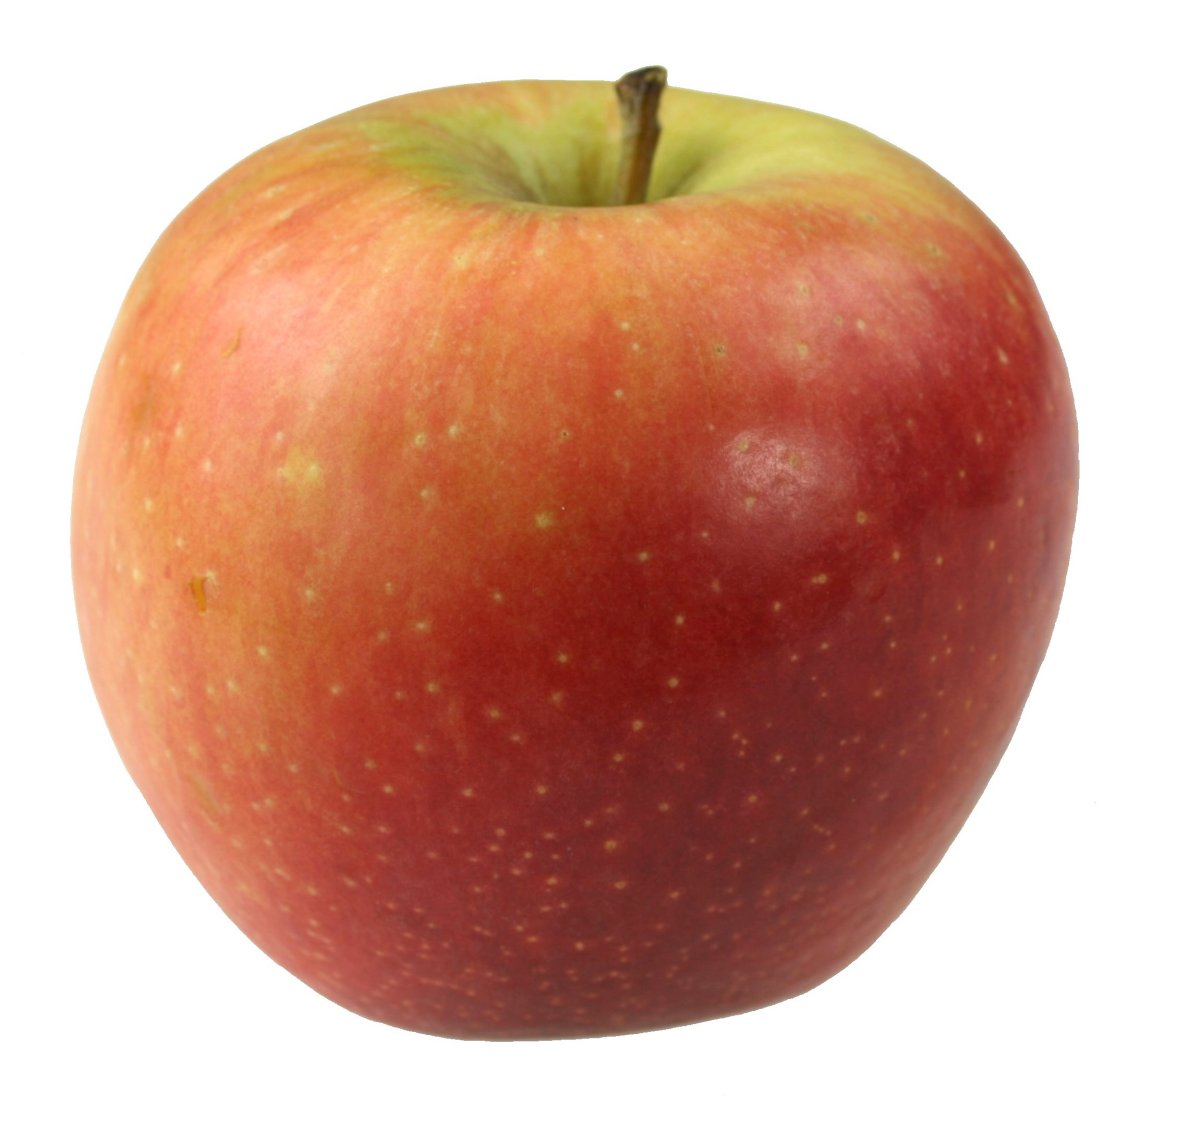apple: (70, 64, 1084, 1045)
